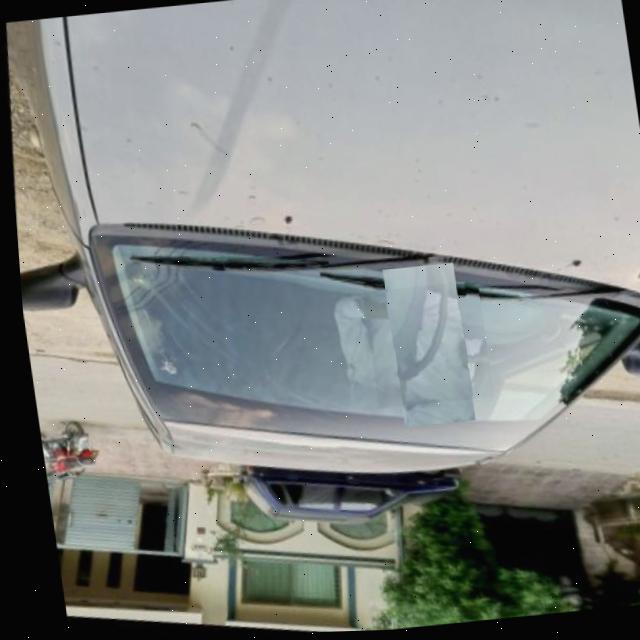no-seatbelt: (356, 282, 487, 410)
